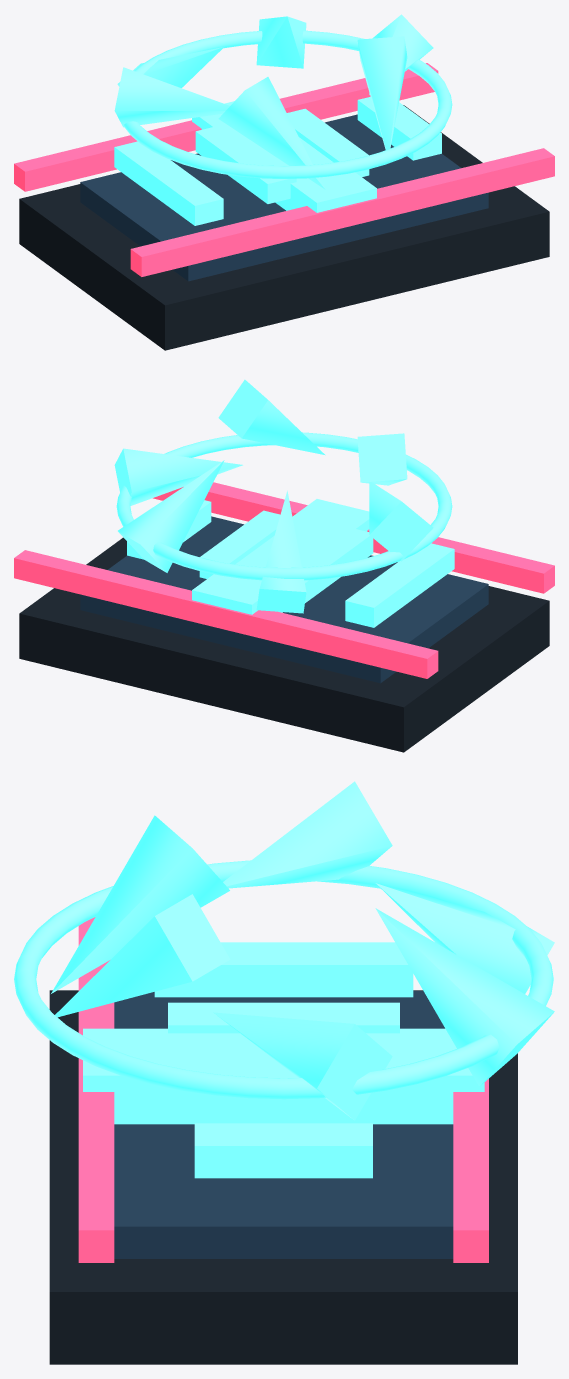
File: command-codes-cinematic.glb
3 views of the same model, one above another, from view 1: azimuth 30°, elevation 25°; view 2: azimuth 150°, elevation 25°; view 3: azimuth 270°, elevation 25° (orthographic). The views are drawn at different scales.
Visible parts, largest first — view 1: encrypted-data-core, raised-command-plate, red-security-clasp-north, holographic-code-ring, red-security-clasp-south, encrypted-code-lane-1, floating-code-shard-3, floating-code-shard-4, center-memory-bank, floating-code-shard-2, encrypted-code-lane-2, floating-code-shard-6 (+4 smaller); view 2: encrypted-data-core, raised-command-plate, red-security-clasp-south, holographic-code-ring, red-security-clasp-north, center-memory-bank, encrypted-code-lane-1, floating-code-shard-6, floating-code-shard-1, floating-code-shard-2, floating-code-shard-5, floating-code-shard-4 (+4 smaller); view 3: encrypted-data-core, raised-command-plate, holographic-code-ring, center-memory-bank, encrypted-code-lane-1, floating-code-shard-6, encrypted-code-lane-4, floating-code-shard-3, floating-code-shard-2, floating-code-shard-4, floating-code-shard-1, red-security-clasp-north (+4 smaller).
Part boxes in pixels (x1,y1,x2,y2): encrypted-data-core: [19, 105, 549, 350]; raised-command-plate: [80, 114, 488, 281]; red-security-clasp-north: [130, 148, 554, 276]; holographic-code-ring: [124, 30, 452, 178]; red-security-clasp-south: [14, 63, 438, 191]; encrypted-code-lane-1: [114, 141, 223, 225]; floating-code-shard-3: [218, 77, 325, 189]; floating-code-shard-4: [114, 67, 229, 127]; center-memory-bank: [192, 101, 376, 212]; floating-code-shard-2: [357, 36, 407, 149]; encrypted-code-lane-2: [195, 124, 296, 203]; floating-code-shard-6: [256, 16, 306, 68]; encrypted-data-core: [19, 537, 549, 752]; raised-command-plate: [80, 516, 488, 683]; red-security-clasp-south: [14, 550, 438, 678]; holographic-code-ring: [116, 432, 452, 580]; red-security-clasp-north: [153, 482, 554, 593]; center-memory-bank: [192, 499, 369, 614]; encrypted-code-lane-1: [345, 543, 454, 627]; floating-code-shard-6: [118, 460, 224, 572]; floating-code-shard-1: [114, 448, 242, 505]; floating-code-shard-2: [218, 379, 325, 455]; floating-code-shard-5: [256, 490, 306, 613]; floating-code-shard-4: [369, 482, 433, 561]; encrypted-data-core: [49, 990, 517, 1364]; raised-command-plate: [114, 991, 453, 1258]; holographic-code-ring: [14, 860, 553, 1099]; center-memory-bank: [83, 1028, 484, 1124]; encrypted-code-lane-1: [154, 942, 413, 997]; floating-code-shard-6: [375, 908, 554, 1086]; encrypted-code-lane-4: [194, 1123, 372, 1178]; floating-code-shard-3: [51, 815, 229, 993]; floating-code-shard-2: [55, 894, 230, 1017]; floating-code-shard-4: [223, 781, 392, 888]; floating-code-shard-1: [213, 1012, 392, 1120]; red-security-clasp-north: [78, 917, 114, 1262].
Bounding box in the file's own units: 1.72 × 0.8913 × 1.21.
